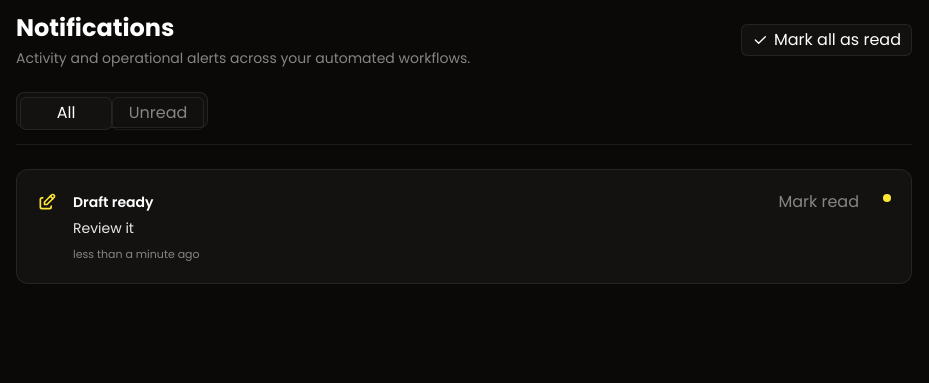
it: Notifications failure feedback › does not mark read or report success when Mark read returns an error
Click the button "Mark read" at (819, 202), box [770,190,867,214]
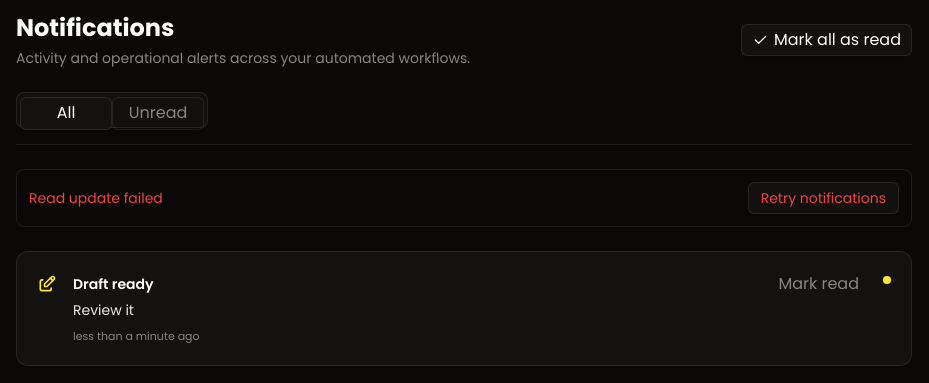
Expected: the button "Mark read" is enabled, [770,272,867,296]
Now the message shows "Read update failed", box [29,188,163,208]
